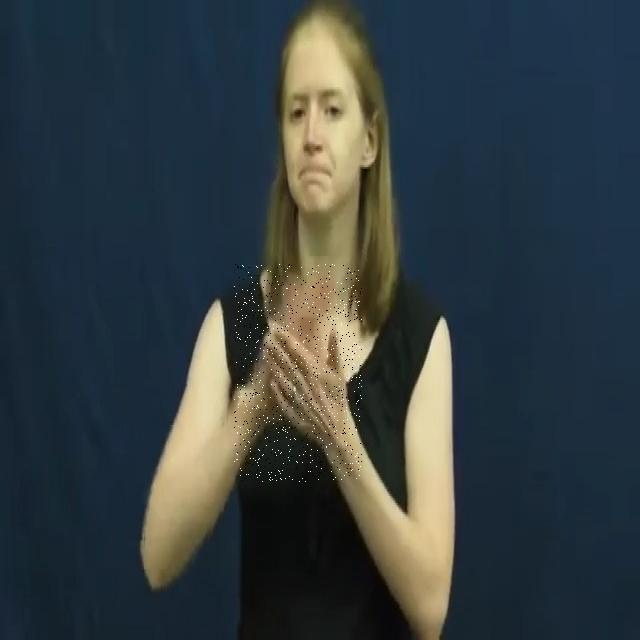fresh: (234, 264, 362, 482)
